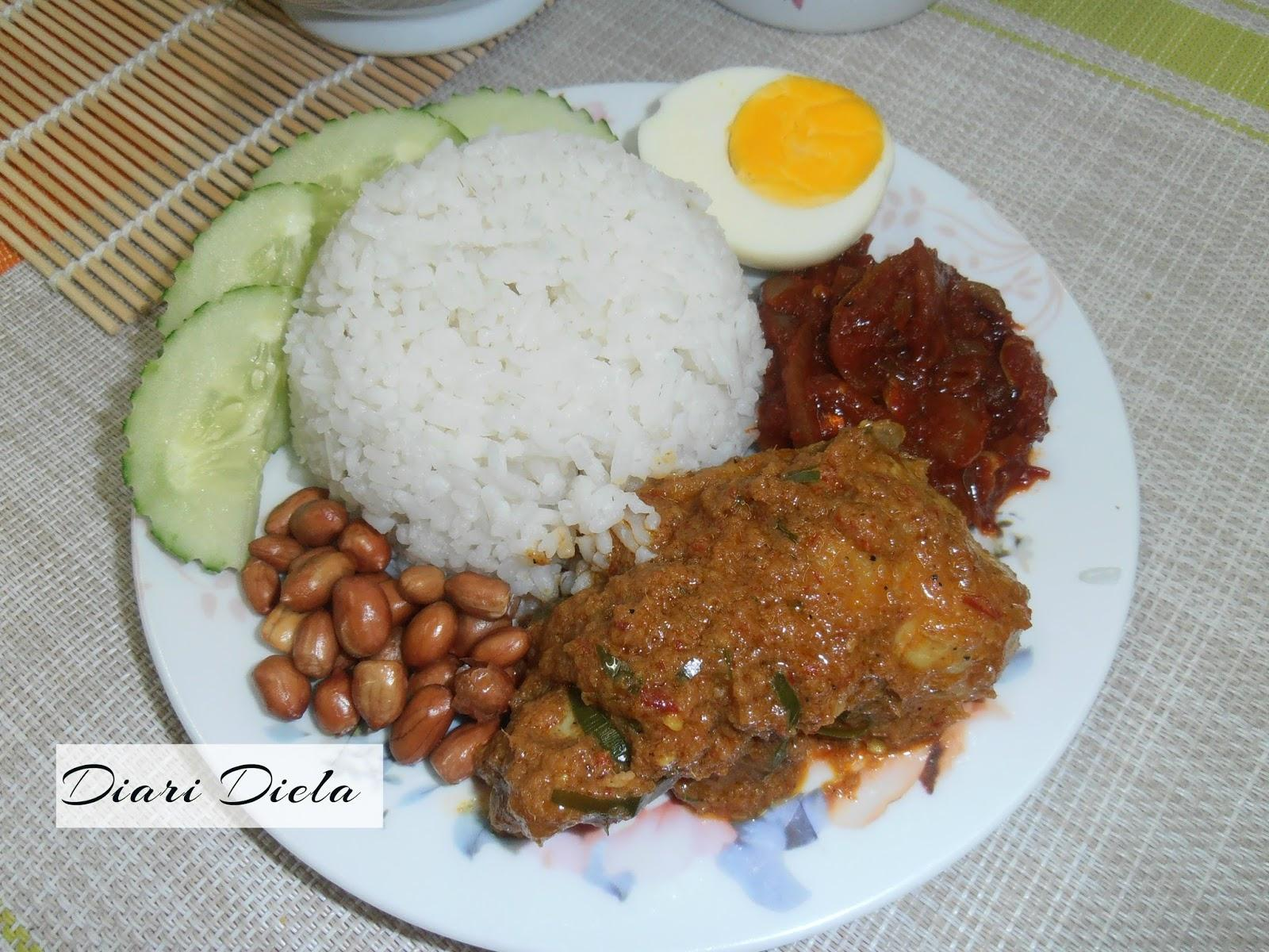Boiled-Egg: (626, 68, 890, 272)
Cucumber: (124, 95, 615, 573)
Peanuts: (237, 489, 521, 785)
Rendang-Chicken: (501, 420, 1029, 840)
Rice: (285, 132, 766, 604)
Sambal: (753, 247, 1052, 536)
